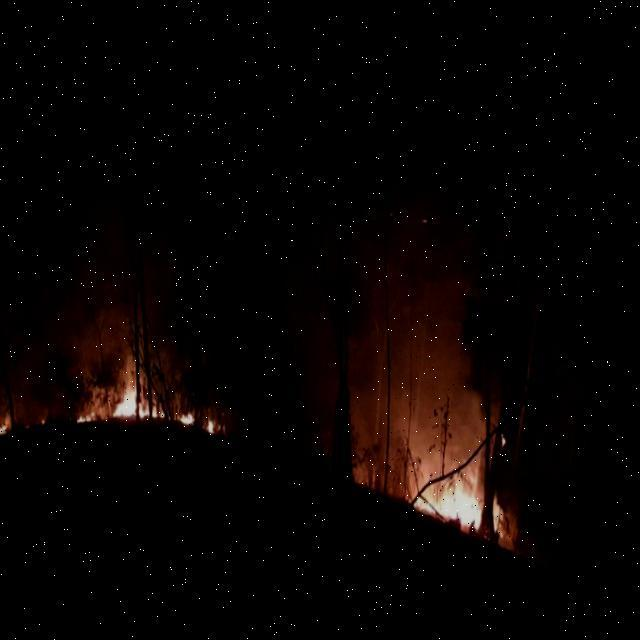Fire: (413, 451, 488, 518), (119, 368, 171, 416), (81, 405, 102, 421), (184, 403, 200, 421), (0, 416, 13, 436), (210, 412, 221, 427)
